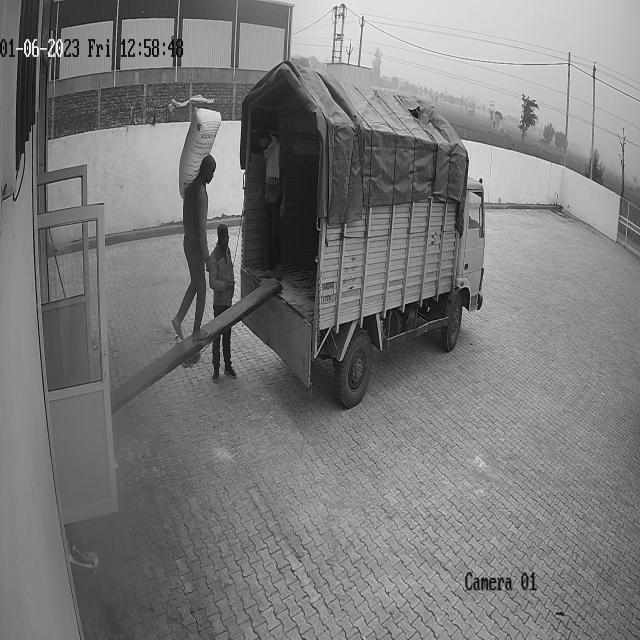sack: (178, 106, 221, 200)
